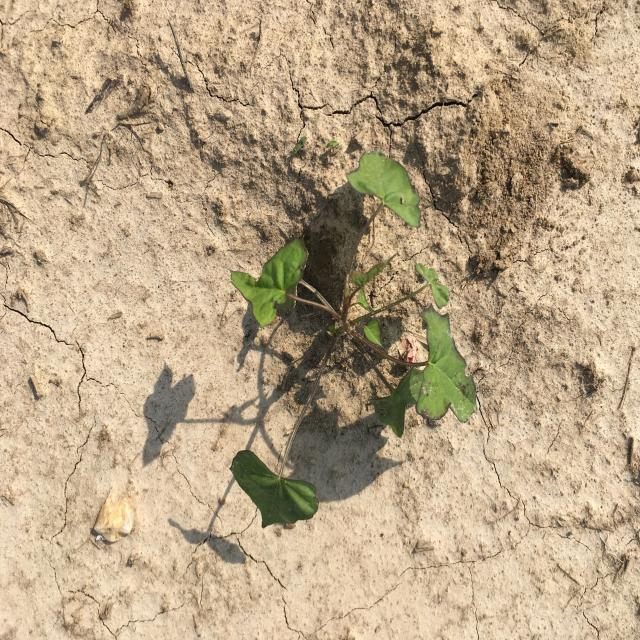MorningGlory: (229, 146, 478, 529)
